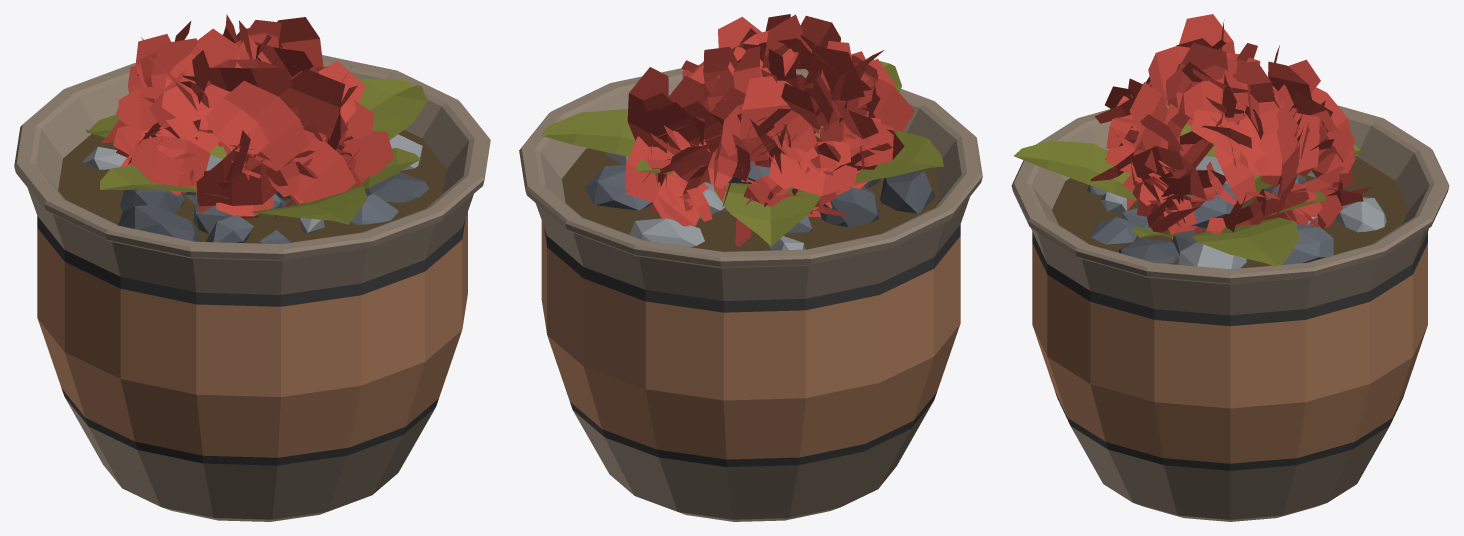
The model's file is PotFlower_1.fbx.
The picture shows the model from 3 angles, left to right: view 1: azimuth 30°, elevation 25°; view 2: azimuth 150°, elevation 25°; view 3: azimuth 270°, elevation 25°; orthographic projection. The views are drawn at different scales.
Visible parts, largest first — view 1: PotFlower_1; view 2: PotFlower_1; view 3: PotFlower_1.
Boxes of the visible parts, <box> form: PotFlower_1: <box>14,14,490,521</box>; PotFlower_1: <box>519,14,982,521</box>; PotFlower_1: <box>1011,14,1449,521</box>.
Size of the model in its own units: 62.51 by 65.59 by 62.51.
